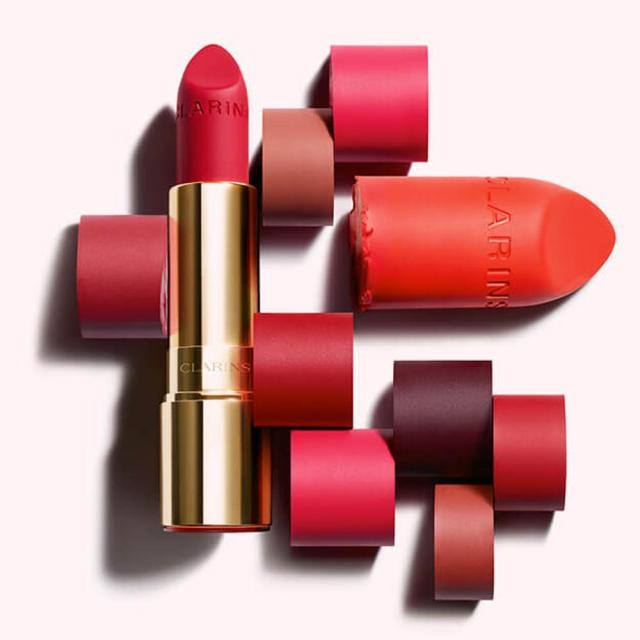lipstick: (137, 27, 261, 534)
